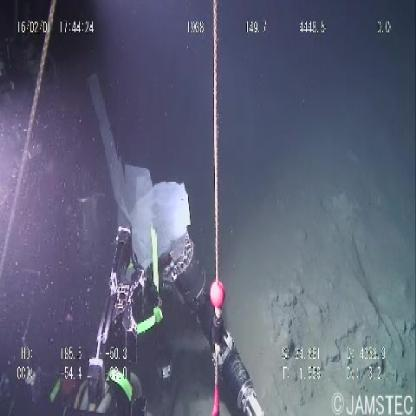Rov: (81, 219, 267, 414)
Rác: (107, 148, 192, 266)
